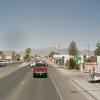Car: (27, 58, 51, 80)
